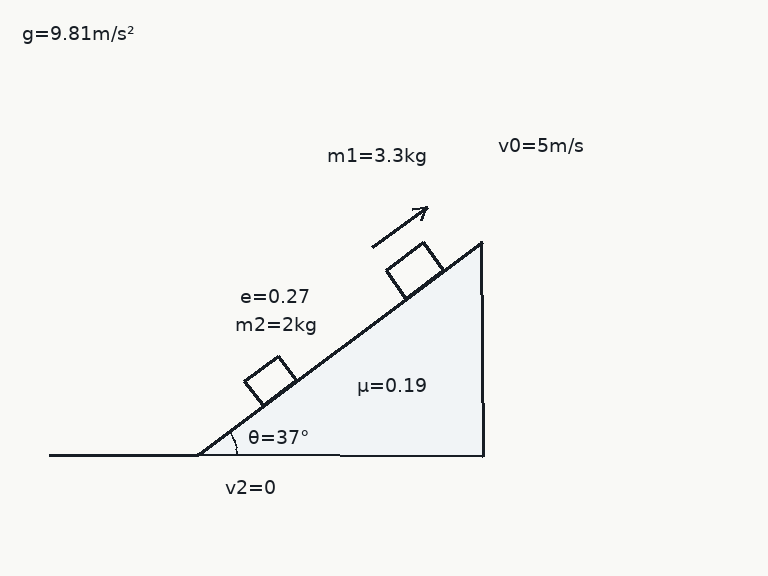block: (383, 241, 445, 300), (242, 354, 298, 408)
ramp: (195, 238, 484, 457)
